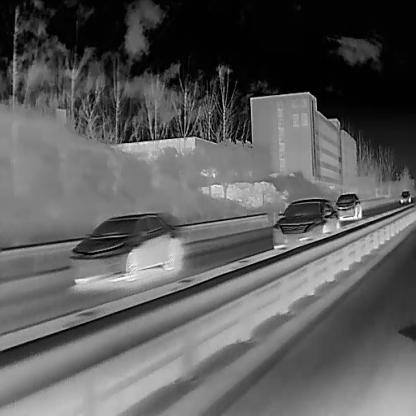car: (68, 212, 183, 284), (271, 198, 344, 250), (332, 193, 361, 220), (399, 189, 410, 203)
